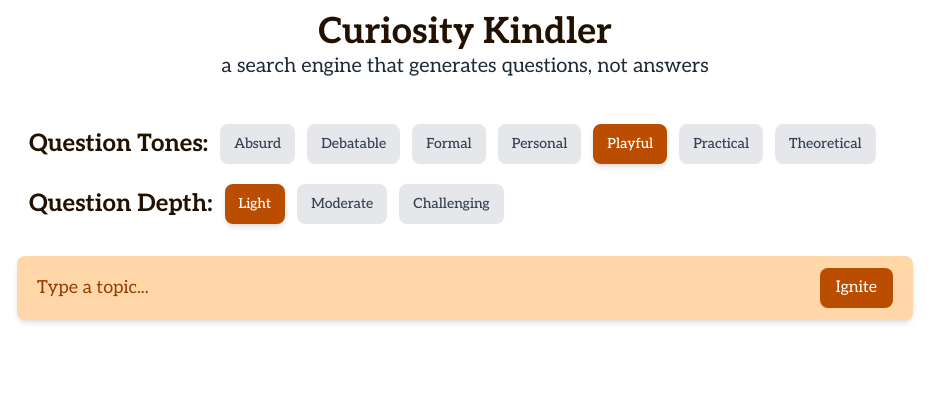
Test case: Full App Integration › shows error message in Responses when API fails
Note: Enter a query that will fail
Type "FailureTest" into the field with placeholder "Type a topic..." at (424, 288), box [37,268,812,308]
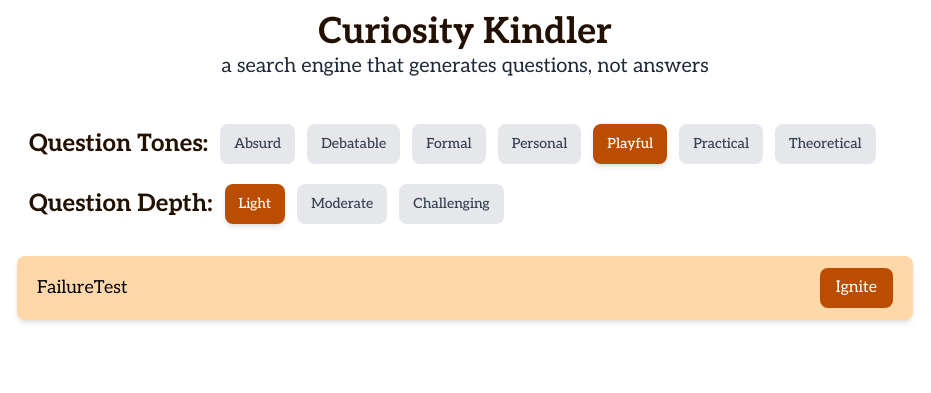
Note: Submit the form
Submit the form with test id "search-form", box [17,256,913,320]
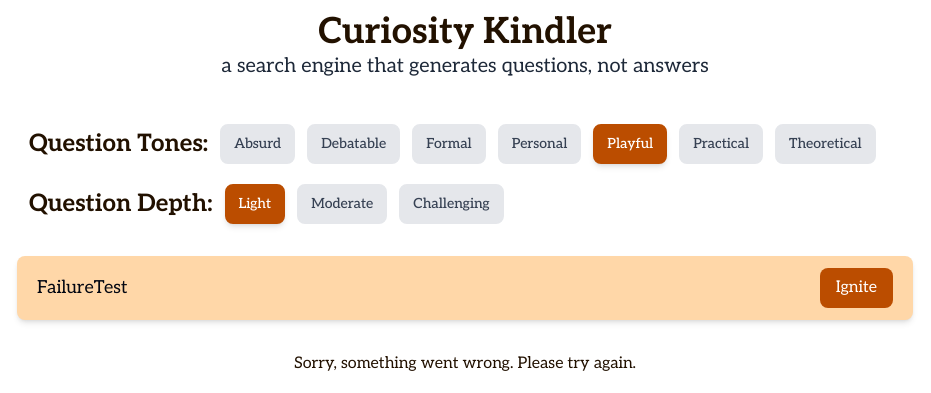
Check: the text "Sorry, something went wrong. Please try again." is shown, box [294,352,636,376]
